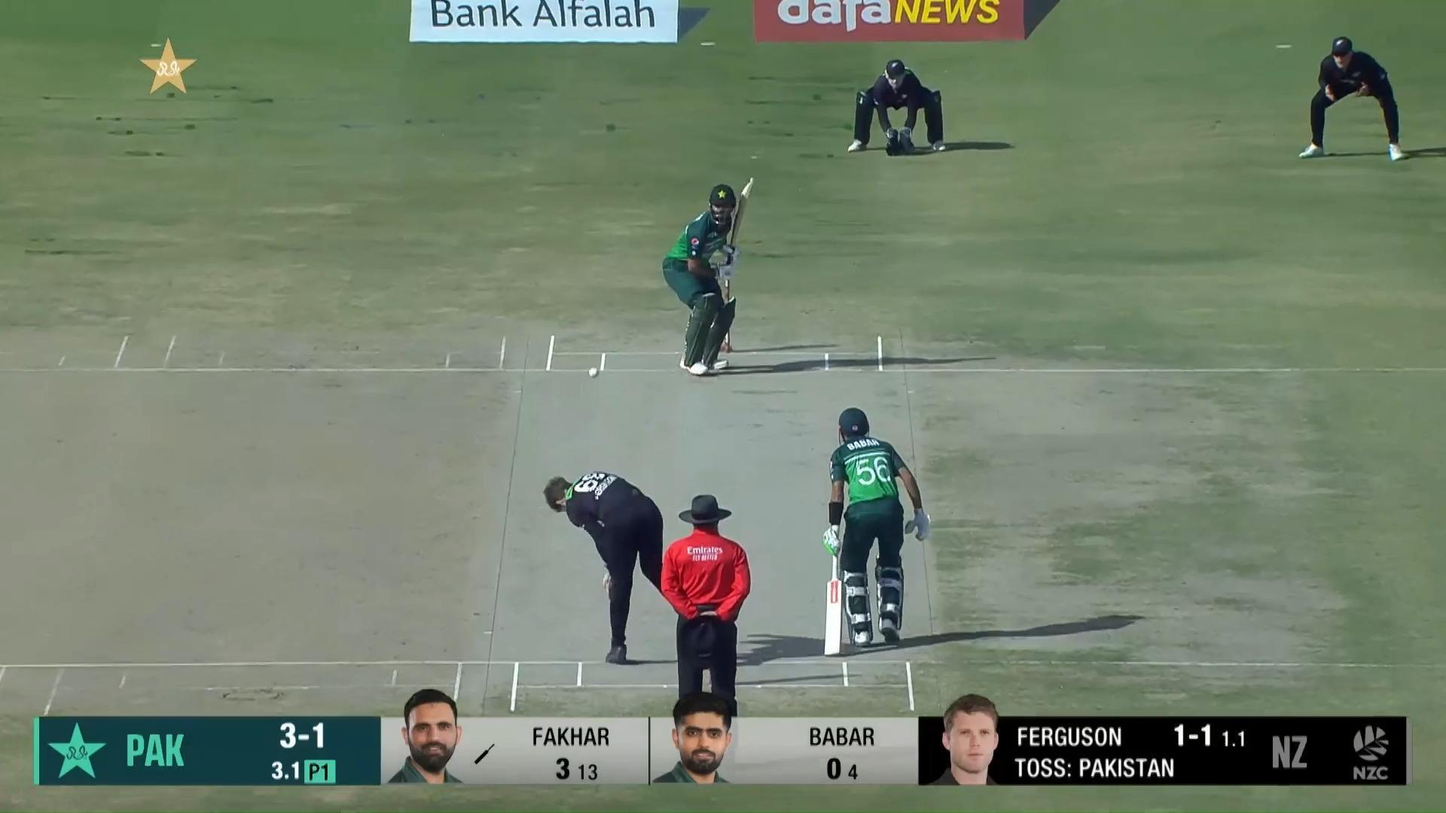BM 1: (662, 178, 754, 376)
BO: (542, 466, 701, 663)
